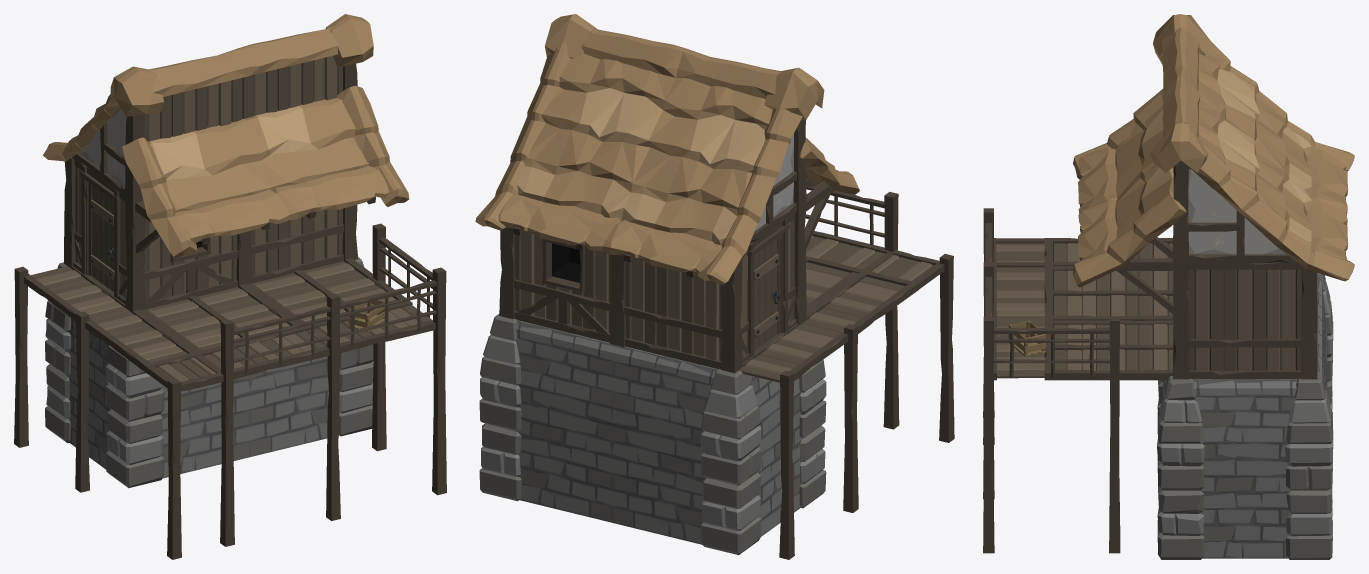
File: SM_Bld_Preset_Hut_01_Optimized.fbx
3 renders of one model, left to right at view 1: azimuth 30°, elevation 25°; view 2: azimuth 150°, elevation 25°; view 3: azimuth 270°, elevation 25°, orthographic. The views are drawn at different scales.
Visible parts, largest first — view 1: SM_Bld_Preset_Hut_01_Optimized; view 2: SM_Bld_Preset_Hut_01_Optimized; view 3: SM_Bld_Preset_Hut_01_Optimized.
Boxes of the visible parts, x1,y1,x2,y2 form: SM_Bld_Preset_Hut_01_Optimized: (14,14,446,559); SM_Bld_Preset_Hut_01_Optimized: (475,14,954,559); SM_Bld_Preset_Hut_01_Optimized: (983,14,1354,559).
Bounding box in the file's own units: 687 × 924 × 725.
